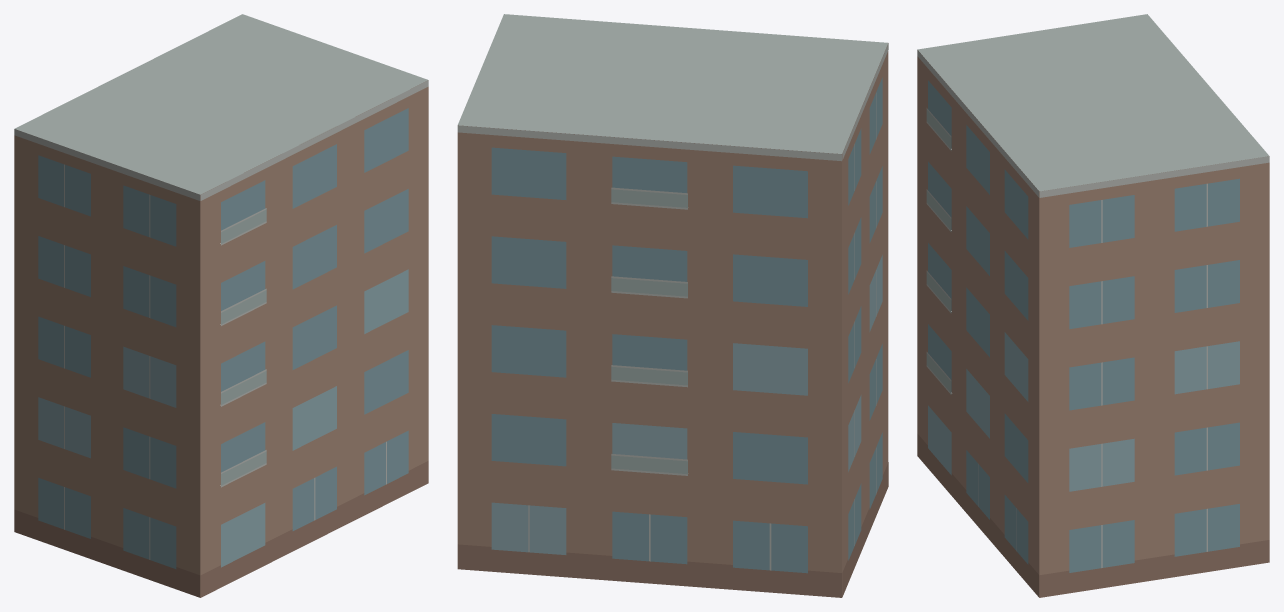
Rendered from residential-cf53b4a1-8a65-4ac2-96ce-9e5cf2eac266.glb.
The picture shows the model from 3 angles, left to right: view 1: azimuth 30°, elevation 25°; view 2: azimuth 150°, elevation 25°; view 3: azimuth 270°, elevation 25°; orthographic projection. The views are drawn at different scales.
Parts seen in each view (by area): view 1: residential-cf53b4a1-8a65-4ac2-96ce-9e5cf2eac266.tmp; view 2: residential-cf53b4a1-8a65-4ac2-96ce-9e5cf2eac266.tmp; view 3: residential-cf53b4a1-8a65-4ac2-96ce-9e5cf2eac266.tmp.
Part boxes in pixels (left/top/right/bottom): residential-cf53b4a1-8a65-4ac2-96ce-9e5cf2eac266.tmp: left=14, top=14, right=428, bottom=597; residential-cf53b4a1-8a65-4ac2-96ce-9e5cf2eac266.tmp: left=457, top=14, right=888, bottom=597; residential-cf53b4a1-8a65-4ac2-96ce-9e5cf2eac266.tmp: left=917, top=14, right=1269, bottom=597.
Bounding box in the file's own units: 14.29 × 15.25 × 11.99.
